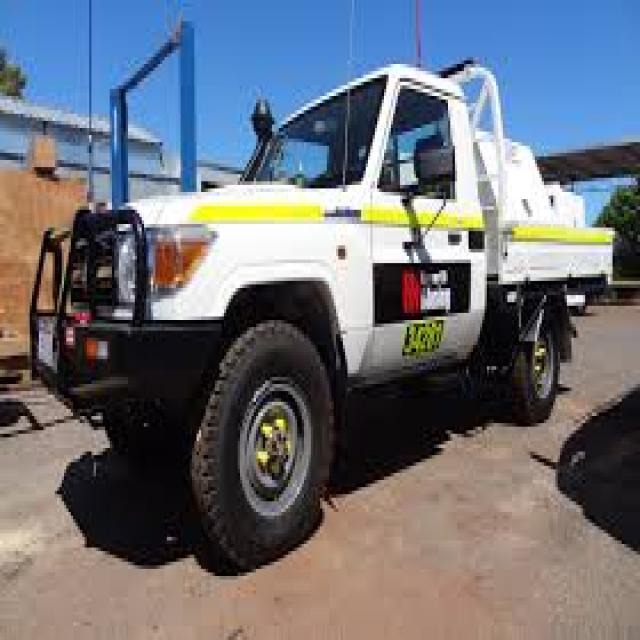light_vehicle: (32, 60, 635, 594)
